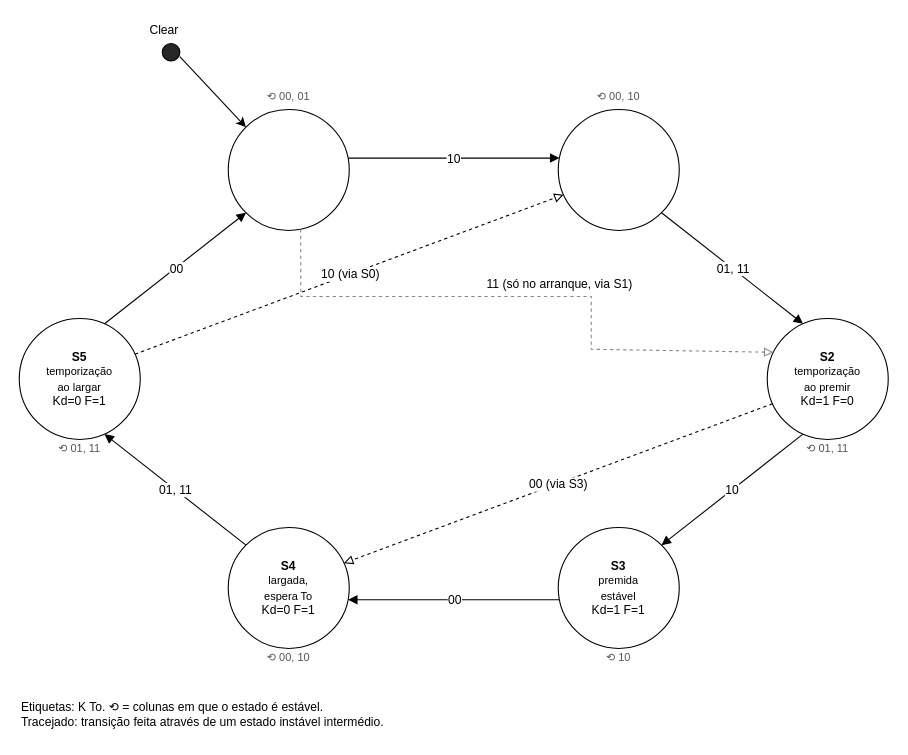
Image size: 908x755. Some labels were removed from this diagram. Each missing label, with the centre of its shape:
S0 repouso Kd=0 F=0: the point at 288,169
S1 premida, espera To Kd=1 F=0: the point at 618,169
